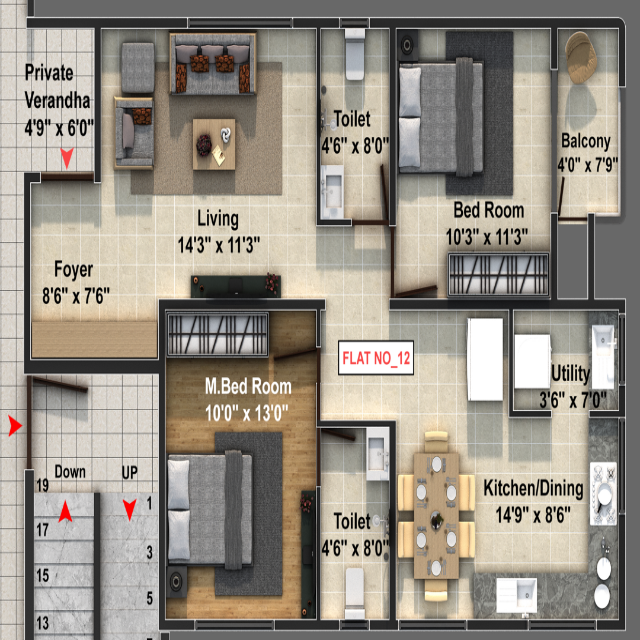door: (26, 373, 88, 474), (392, 229, 438, 297), (274, 348, 320, 403), (41, 172, 94, 219), (318, 427, 355, 491), (353, 162, 389, 225), (558, 175, 588, 220)
